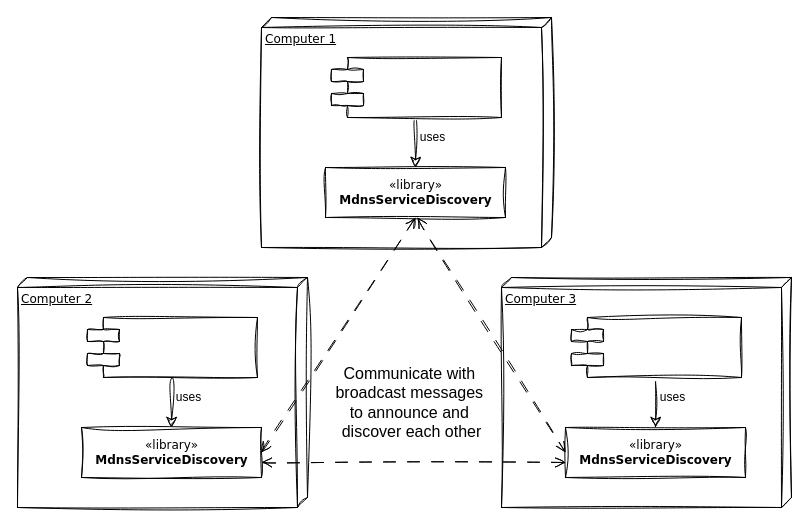
Image size: 809x525. Some labels were removed from this diagram. The shapes that lost their labels are listed below. From the top down, each one's centre as x and y in pixels, then its label:
At (416,87): "«clientApp» DicoveryClient 1".
At (172,347): "«clientApp» DicoveryClient 2".
At (656,347): "«clientApp» DicoveryClient 3".
